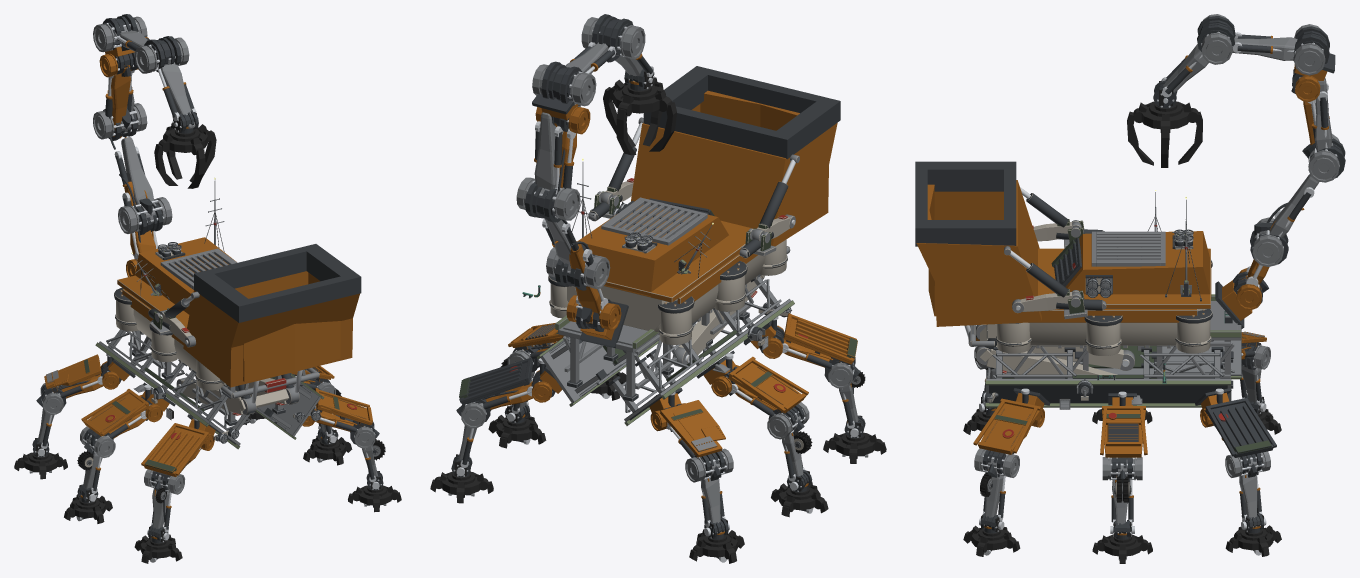
The model's file is desert_crawler.fbx.
3 renders of one model, left to right at view 1: azimuth 30°, elevation 25°; view 2: azimuth 150°, elevation 25°; view 3: azimuth 270°, elevation 25°, orthographic. The views are drawn at different scales.
Visible parts, largest first — view 1: Cube.001, Cube.002, Mesh_Crawler_Chassis, Mesh_Crawler_Gantry.002, Mesh_Leg_N1_Lower.003, Mesh_Leg_N1_Lower, Mesh_Leg_P2_Foot, Cube, Mesh_Leg_N1_Shroud.002, Mesh_Leg_N1_Upper.002, Mesh_Leg_N1_Lower.004, Mesh_Leg_N2_Shroud (+22 smaller); view 2: Cube.001, Mesh_Crawler_Chassis, Cube.002, Cube, Mesh_Crawler_Gantry.002, Mesh_Crawler_Gantry, Mesh_Leg_N1_Lower.001, Mesh_Leg_P2_Foot, Mesh_Leg_N1_Upper, Mesh_Leg_N1_Lower.004, Mesh_GantryPlate_0, Mesh_Crawler_Gantry.003 (+24 smaller); view 3: Cube.001, Mesh_Crawler_Chassis, Mesh_Crawler_Gantry.003, Cube.002, Cube, Mesh_Leg_P2_Foot, Mesh_Leg_N1_Lower.004, Mesh_GantryPlate_0, Mesh_Leg_P3_Shroud, Mesh_Leg_N1_Lower, Mesh_Crawler_Gantry, Mesh_Leg_N1_Lower.003 (+22 smaller).
Boxes of the visible parts, left/top/right/bottom form: Cube.001: left=183, top=271, right=360, bottom=387; Cube.002: left=194, top=244, right=361, bottom=322; Mesh_Crawler_Chassis: left=114, top=275, right=223, bottom=390; Mesh_Crawler_Gantry.002: left=95, top=329, right=253, bottom=449; Mesh_Leg_N1_Lower.003: left=114, top=137, right=172, bottom=234; Mesh_Leg_N1_Lower: left=135, top=36, right=196, bottom=128; Mesh_Leg_P2_Foot: left=154, top=111, right=216, bottom=188; Cube: left=135, top=237, right=236, bottom=314; Mesh_Leg_N1_Shroud.002: left=141, top=423, right=209, bottom=476; Mesh_Leg_N1_Upper.002: left=99, top=40, right=138, bottom=149; Mesh_Leg_N1_Lower.004: left=93, top=14, right=149, bottom=52; Mesh_Leg_N2_Shroud: left=81, top=389, right=149, bottom=436; Cube.001: left=631, top=90, right=837, bottom=246; Mesh_Crawler_Chassis: left=548, top=220, right=787, bottom=345; Cube.002: left=643, top=66, right=840, bottom=159; Cube: left=577, top=205, right=728, bottom=296; Mesh_Crawler_Gantry.002: left=608, top=274, right=794, bottom=425; Mesh_Crawler_Gantry: left=555, top=287, right=753, bottom=401; Mesh_Leg_N1_Lower.001: left=516, top=112, right=580, bottom=222; Mesh_Leg_P2_Foot: left=603, top=69, right=676, bottom=155; Mesh_Leg_N1_Upper: left=554, top=241, right=628, bottom=348; Mesh_Leg_N1_Lower.004: left=532, top=42, right=616, bottom=106; Mesh_GantryPlate_0: left=601, top=197, right=707, bottom=245; Mesh_Crawler_Gantry.003: left=536, top=337, right=658, bottom=406; Cube.001: left=916, top=180, right=1041, bottom=326; Mesh_Crawler_Chassis: left=996, top=248, right=1212, bottom=355; Mesh_Crawler_Gantry.003: left=985, top=347, right=1231, bottom=407; Cube.002: left=915, top=161, right=1016, bottom=246; Cube: left=1065, top=231, right=1211, bottom=298; Mesh_Leg_P2_Foot: left=1127, top=80, right=1202, bottom=167; Mesh_Leg_N1_Lower.004: left=1232, top=24, right=1329, bottom=75; Mesh_GantryPlate_0: left=1091, top=231, right=1165, bottom=266; Mesh_Leg_P3_Shroud: left=1205, top=398, right=1276, bottom=457; Mesh_Leg_N1_Lower: left=1161, top=14, right=1235, bottom=97; Mesh_Crawler_Gantry: left=1011, top=294, right=1241, bottom=388; Mesh_Leg_N1_Lower.003: left=1250, top=174, right=1319, bottom=266.
Size of the model in its own units: 2048 by 2876 by 2391.
